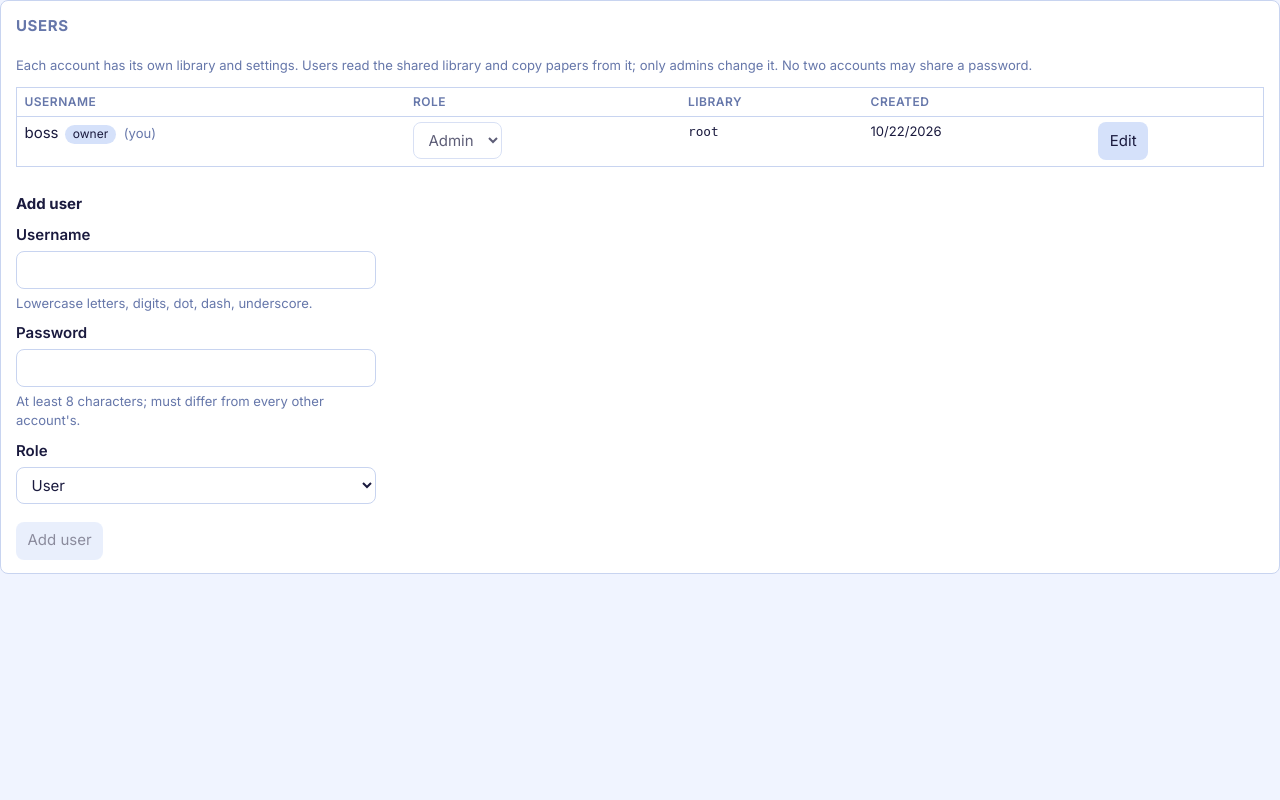
Test: UsersPanel › adds a user with a lowercase name
Check: the text "boss" is shown, box top-left (24, 123), bottom-right (58, 142)
Type "Alice" into the field labelled "Username Lowercase letters, digits, dot, dash, underscore." at (196, 270), box top-left (16, 251), bottom-right (376, 289)
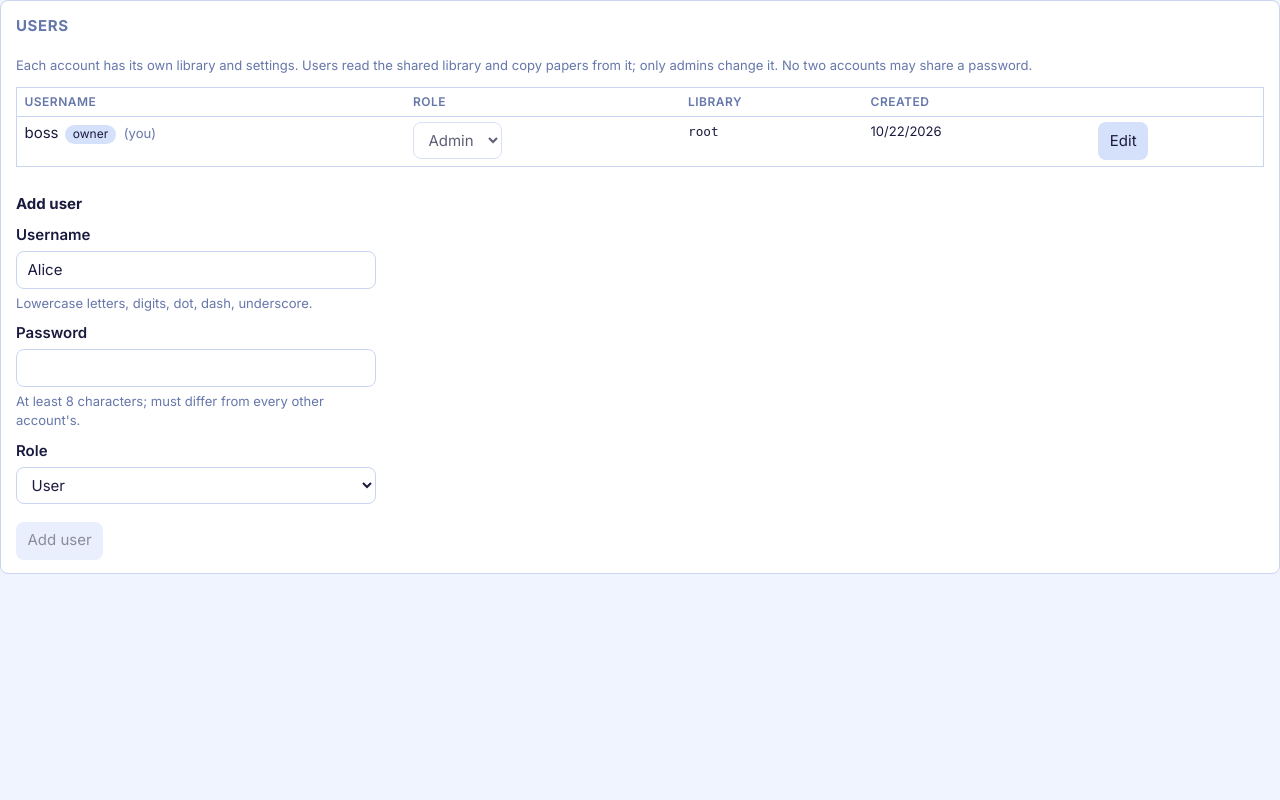
Type "short" into the password field labelled "Password" at (196, 368), box top-left (16, 349), bottom-right (376, 387)
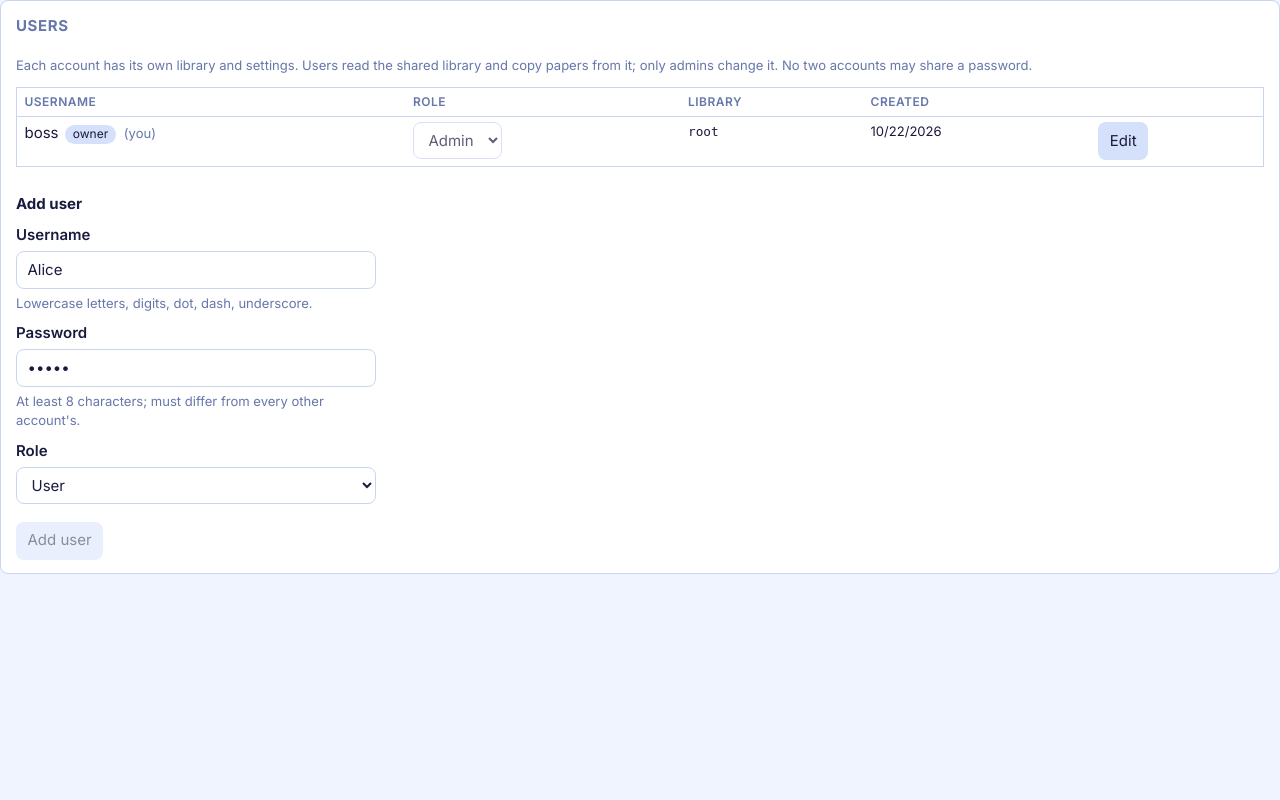
Check: the button "Add user" is disabled, box top-left (16, 522), bottom-right (103, 560)
Type "alice-password" into the password field labelled "Password" at (196, 368), box top-left (16, 349), bottom-right (376, 387)
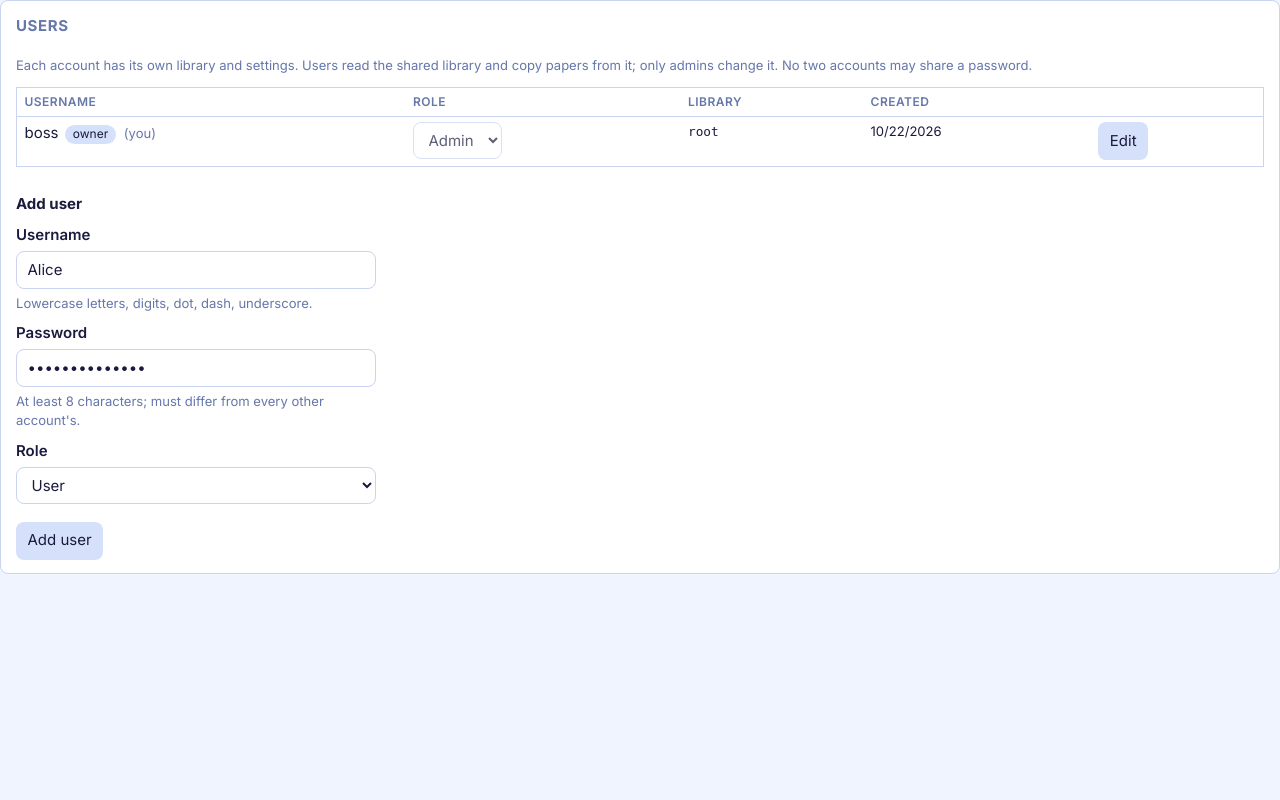
Click the button "Add user" at (60, 540), box top-left (16, 522), bottom-right (103, 560)
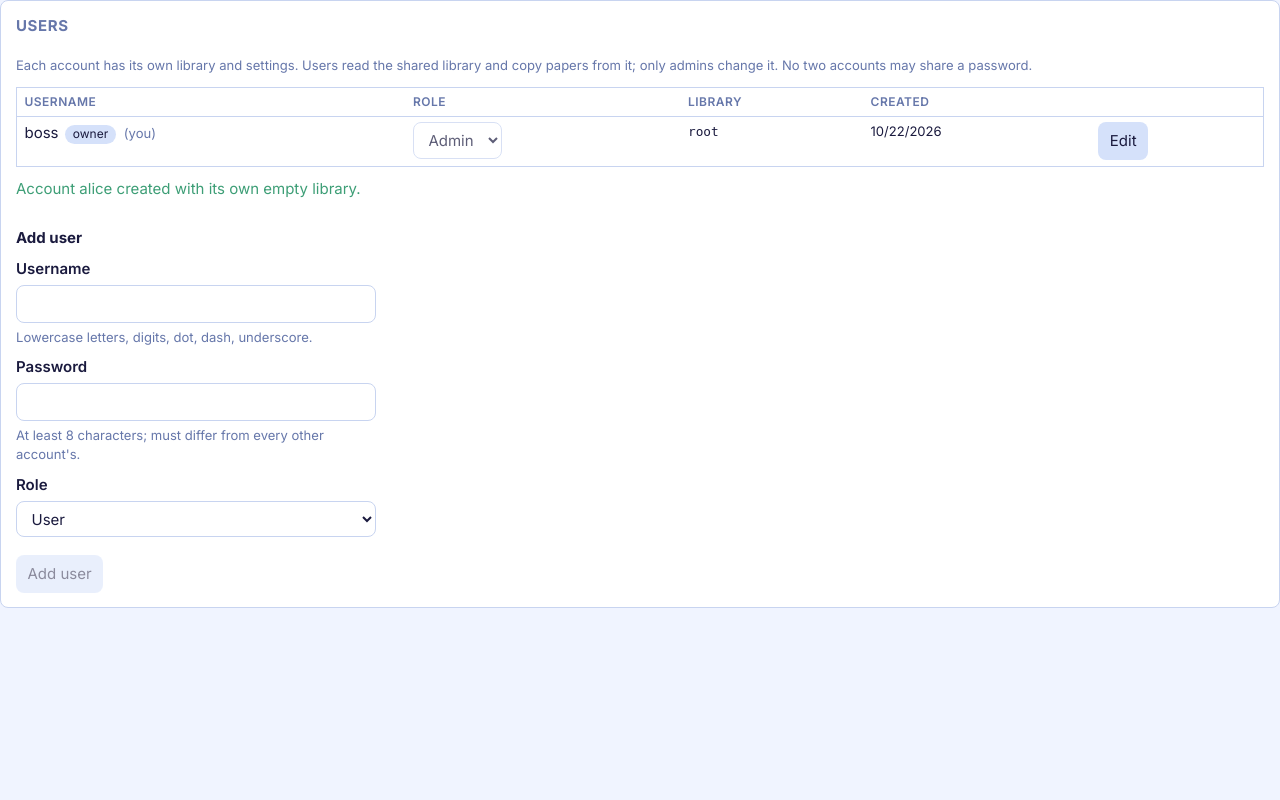
Check: the text "Account alice created with its own empty library." is shown, box top-left (16, 179), bottom-right (361, 198)
